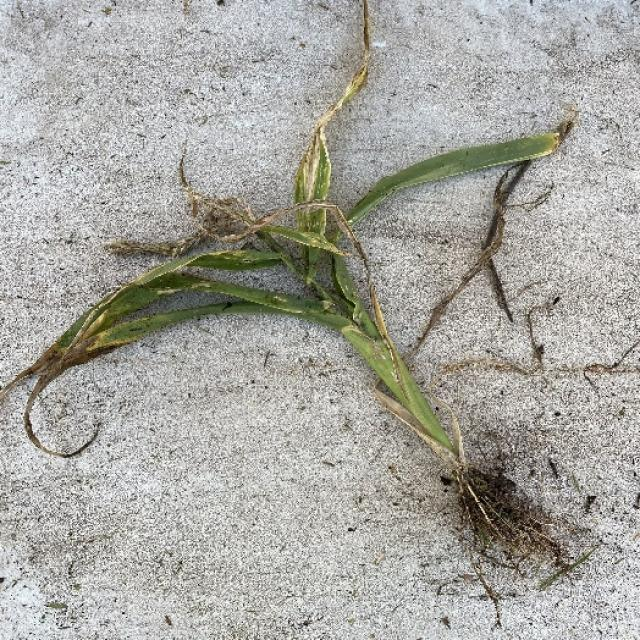organik: (56, 73, 575, 556)
